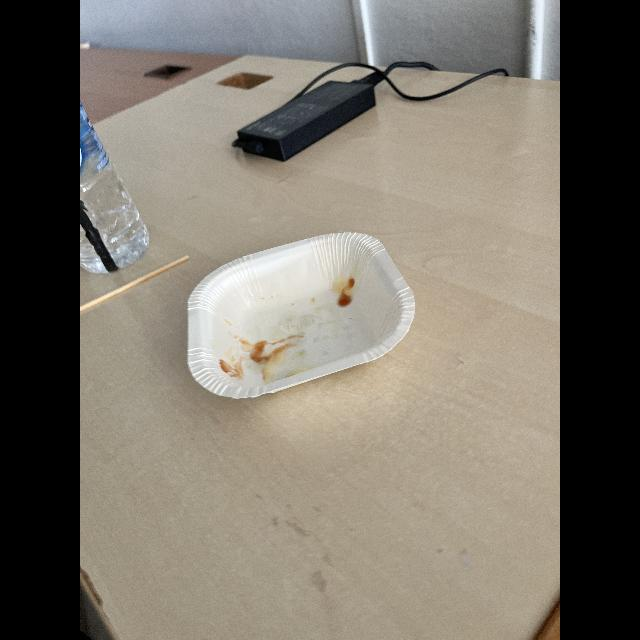cardboard_bowl: (173, 218, 414, 402)
stick: (80, 245, 200, 321)
